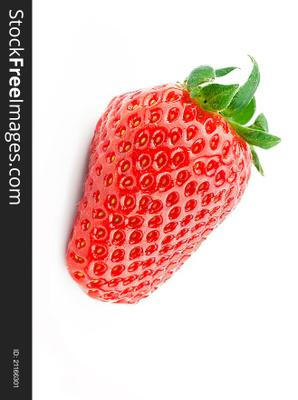strawberry: (0, 0, 298, 400)
